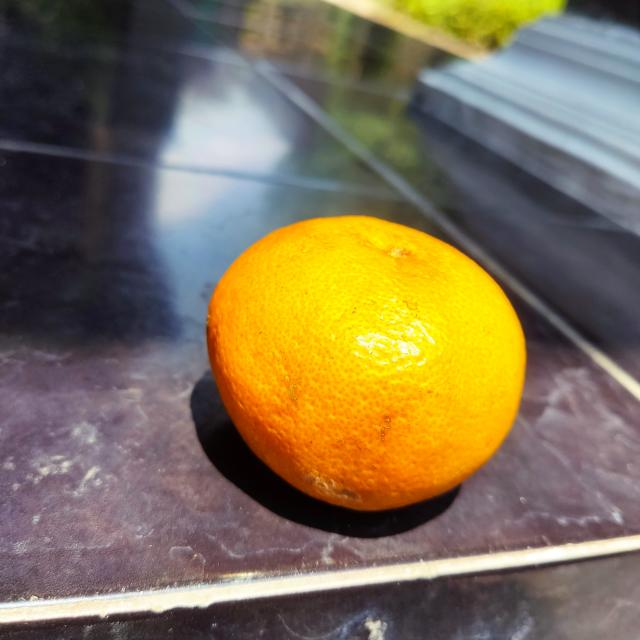orange: (203, 213, 531, 514)
